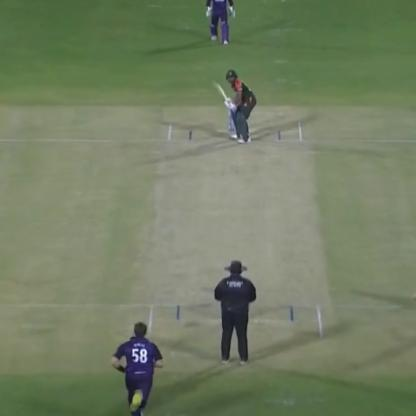bat: (203, 74, 235, 109)
pitch: (148, 118, 325, 334)
